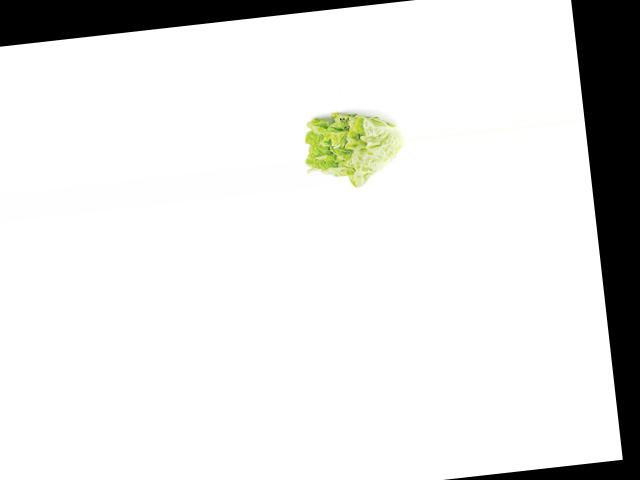lettuce: (300, 100, 407, 191)
